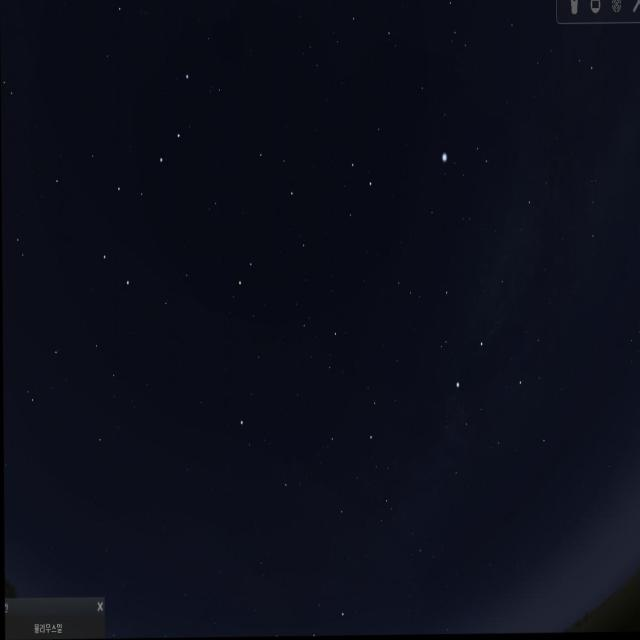cygnus: (434, 192, 545, 396)
lyra: (432, 122, 496, 196)
ursa_major: (99, 54, 200, 282)
